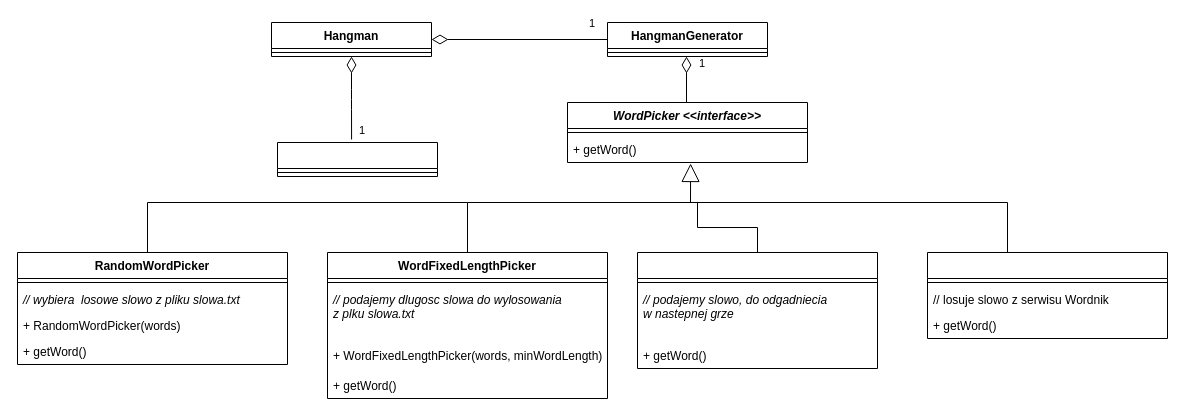
Image size: 1185x419. Some labels were removed from this diagram. Here are the shapes that lost their labels. From the top down, the box of each, then its label:
(276, 142, 438, 176): HangmanWriter
(636, 252, 878, 368): WordInputReader
(926, 252, 1168, 338): WordnikPicker
